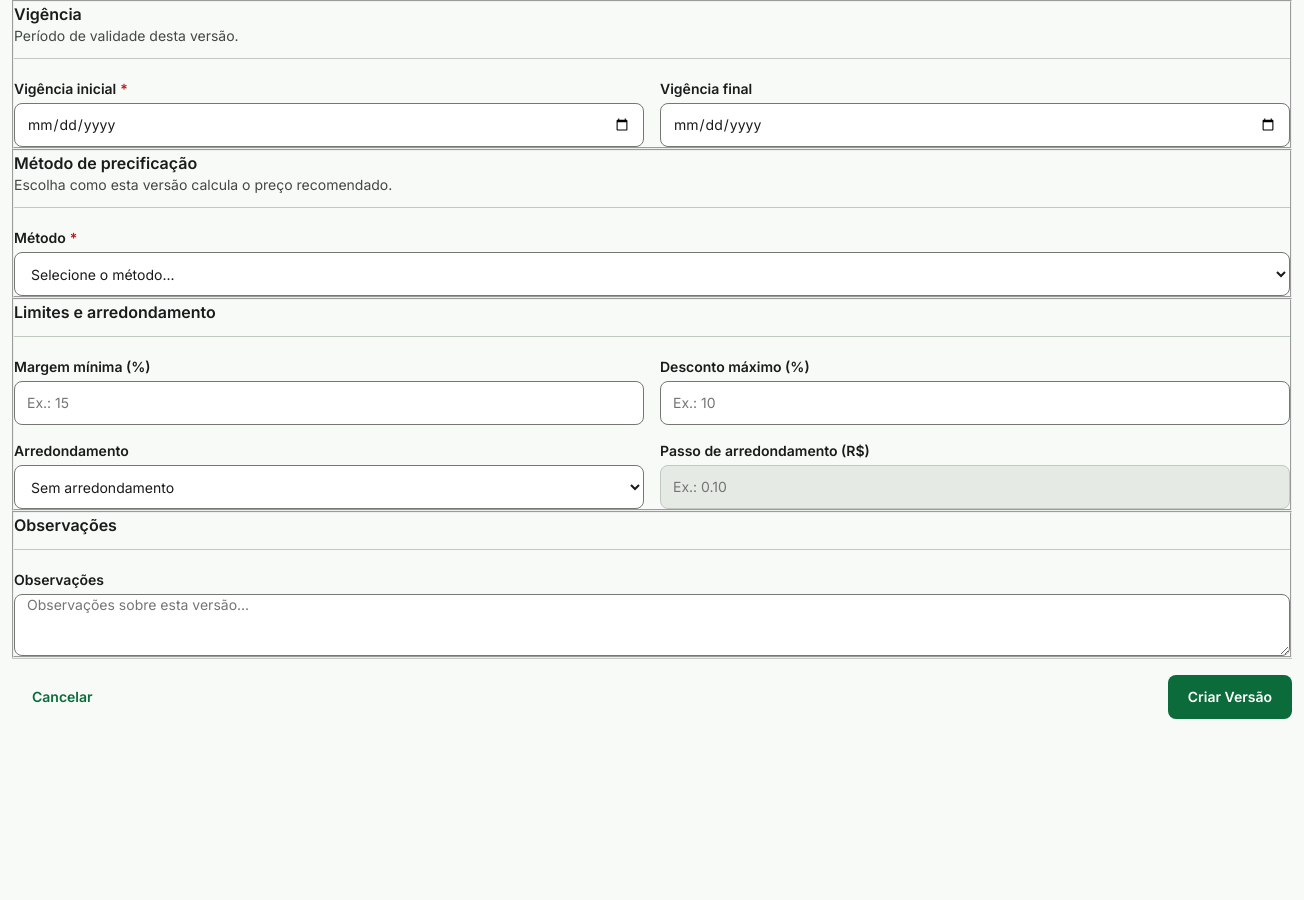
it: Version form method-dependent fields (UI-FORM03..04) › UI-FORM03c: fixed_price shows preço fixo field only
This screenshot has width=1304, height=900.
Select "Preço fixo" in the dropdown labelled "Método*" at coordinates (652, 274), box [14, 252, 1290, 296]
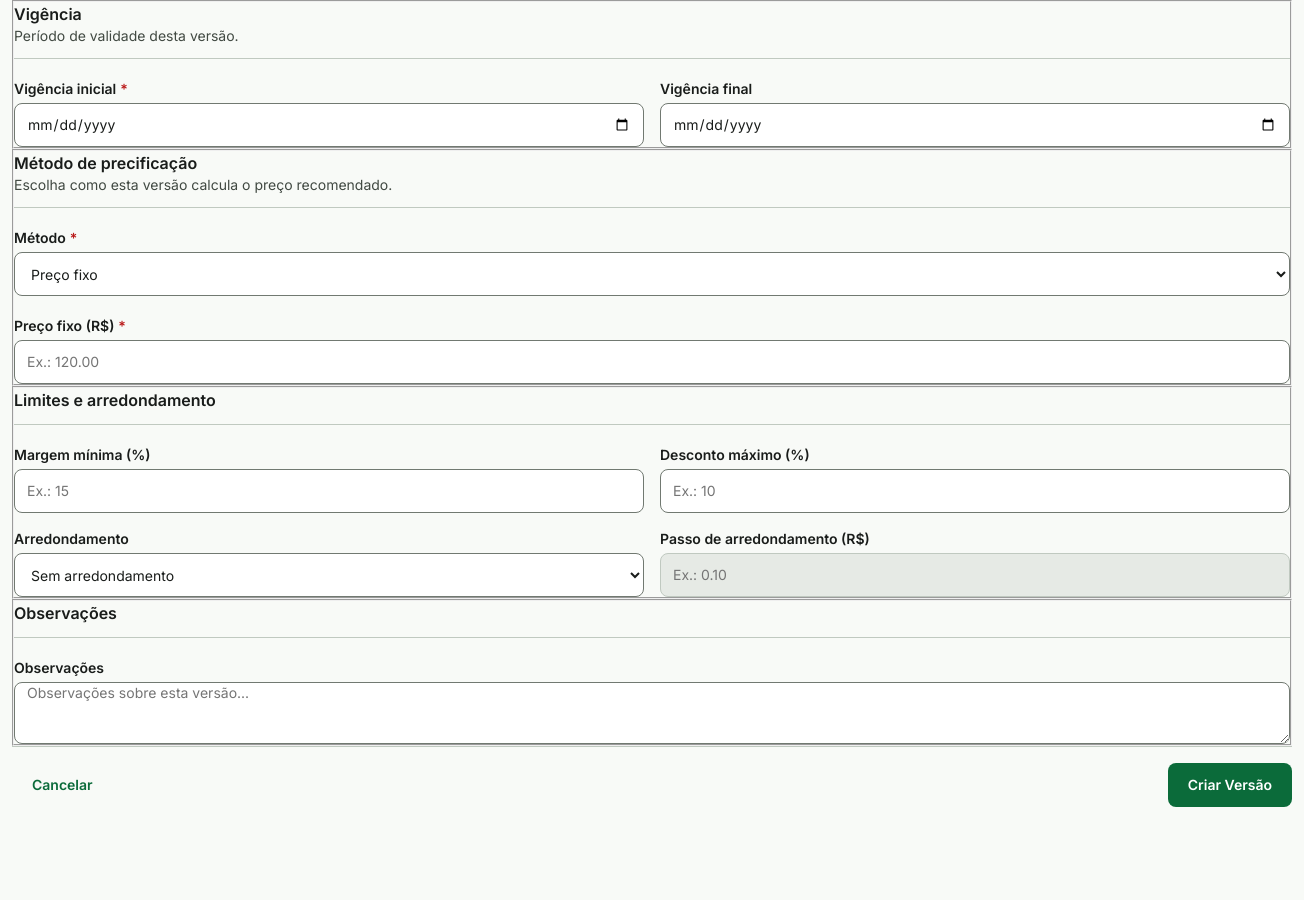
Check: the number field labelled "Preço fixo (R$)*" is shown, box [14, 340, 1290, 384]
